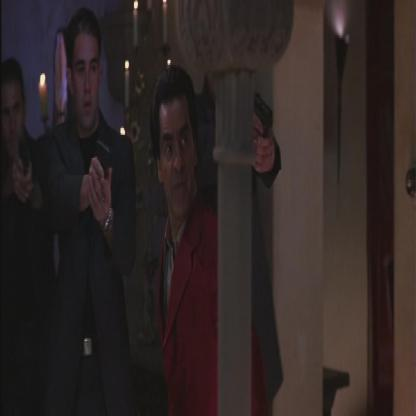Guns: (250, 90, 275, 146), (92, 135, 112, 201), (16, 133, 31, 180)
